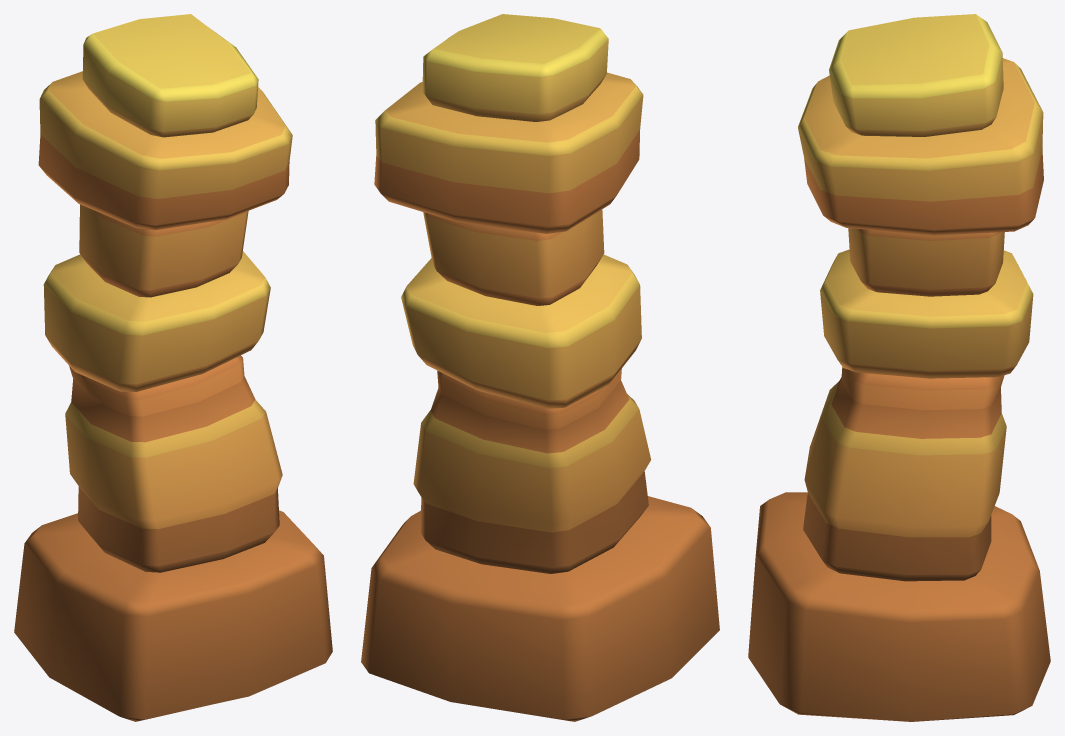
Rendered from rock_formation_light_06.fbx.
3 views of the same model, side by side, from view 1: azimuth 30°, elevation 25°; view 2: azimuth 150°, elevation 25°; view 3: azimuth 270°, elevation 25° (orthographic). The views are drawn at different scales.
Visible parts, largest first — view 1: rock_formation_light_06; view 2: rock_formation_light_06; view 3: rock_formation_light_06.
Part boxes in pixels (box(x1,y1,x2,y2)): rock_formation_light_06: box(14, 14, 332, 721); rock_formation_light_06: box(361, 14, 719, 721); rock_formation_light_06: box(748, 14, 1050, 721).
Size of the model in its own units: 378 by 856 by 373.
